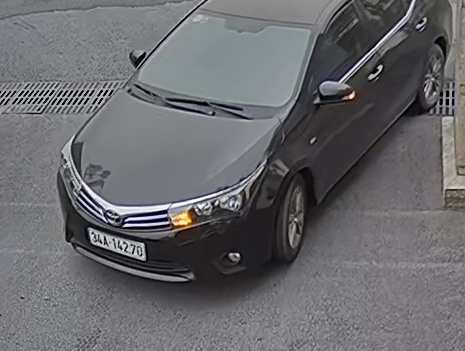vehicle plate: (86, 223, 147, 262)
